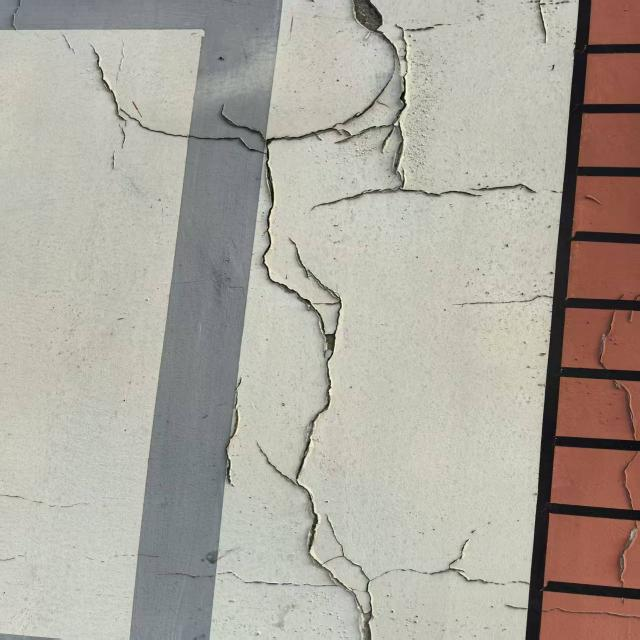crack: (87, 12, 553, 634), (591, 288, 639, 616), (365, 516, 547, 597)
spalling: (350, 1, 388, 32)
